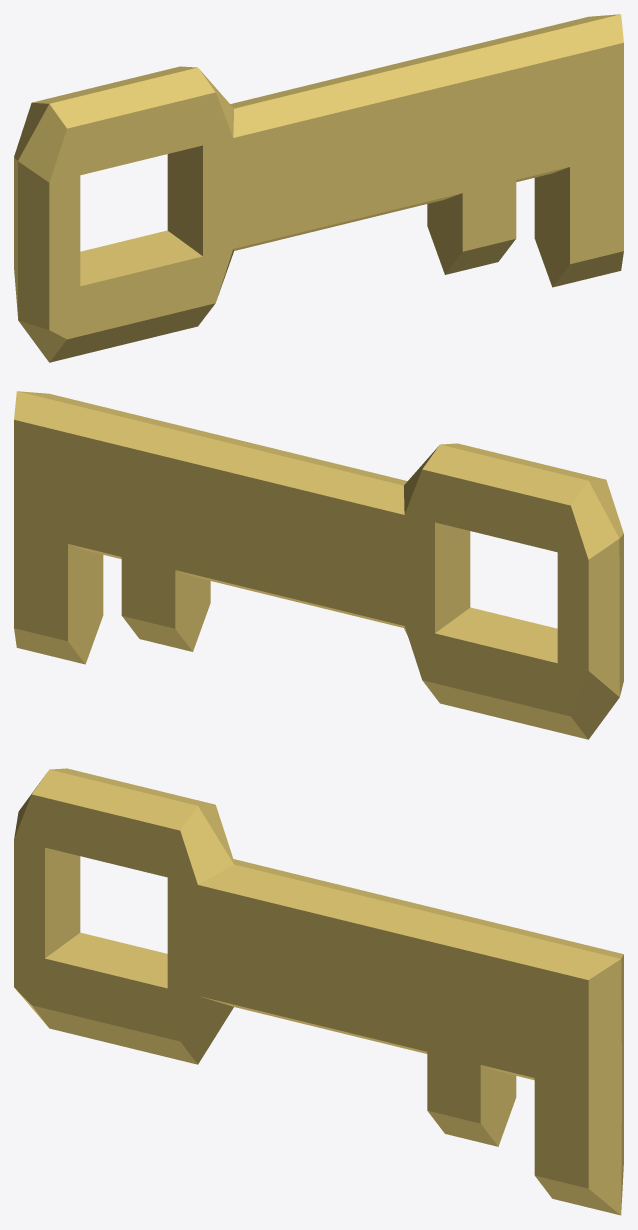
The model's file is KeyTextured.fbx.
The picture shows the model from 3 angles, top to bottom: view 1: azimuth 30°, elevation 25°; view 2: azimuth 150°, elevation 25°; view 3: azimuth 330°, elevation 25°; orthographic projection.
Visible parts, largest first — view 1: Cube; view 2: Cube; view 3: Cube.
Part boxes in pixels (box(x1,y1,x2,y2)): Cube: box(14, 14, 623, 362); Cube: box(14, 391, 623, 739); Cube: box(14, 768, 623, 1215).
Size of the model in its own units: 1139 by 552 by 116.
Materials: 1 (1 with a texture image).
